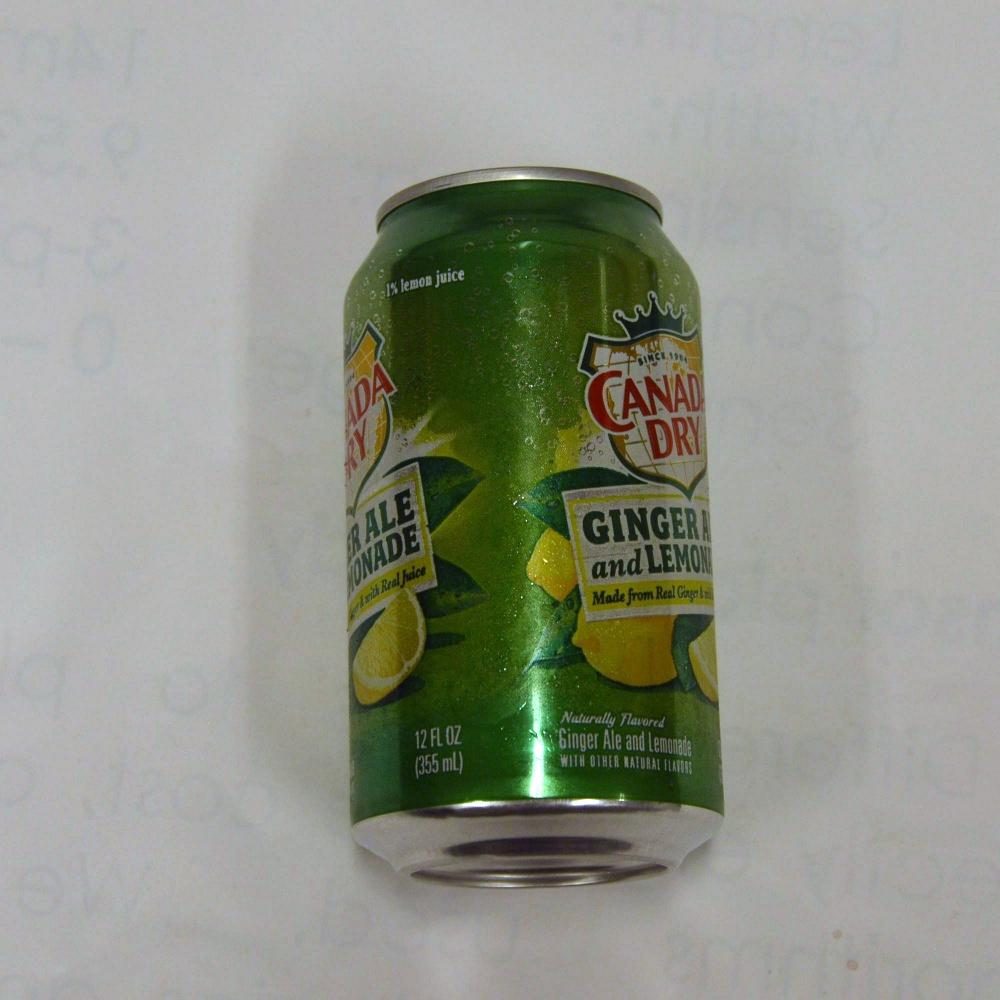Metal: (313, 173, 748, 878)
